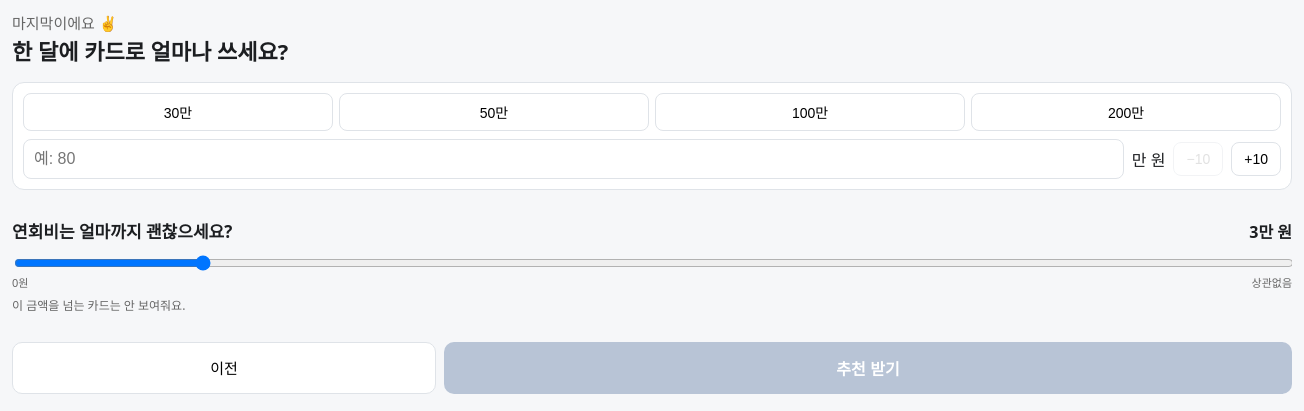
Test: 연회비 슬라이더: 20만 원까지는 실제 값, 그 다음 한 칸이 상관없음
Check: the text "3만 원" is shown, box [1249,219,1292,243]
Set the slider labelled "연회비는 얼마까지 괜찮으세요?" to "200000" at (1224, 263), box [14,255,1292,271]
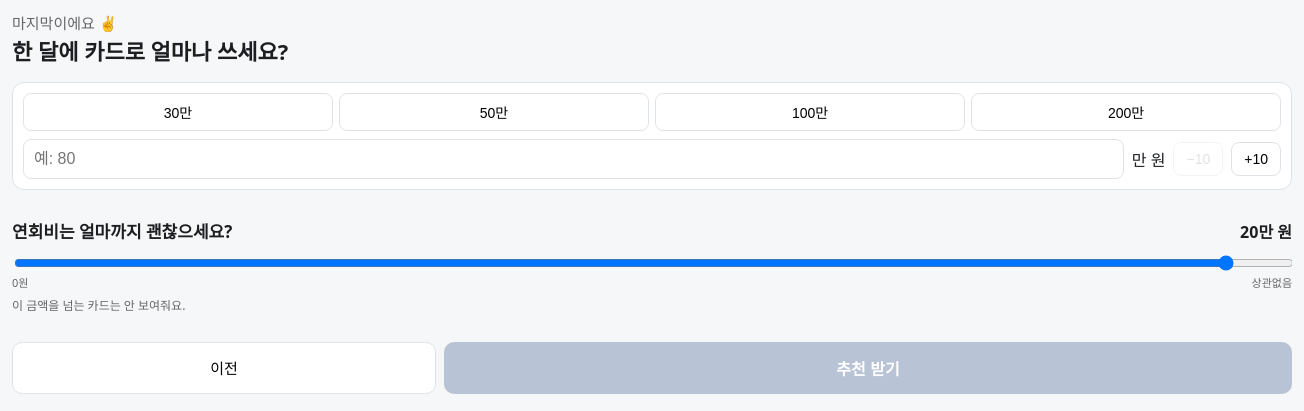
Check: the text "20만 원" is shown, box [1240,219,1292,243]
Set the slider labelled "연회비는 얼마까지 괜찮으세요?" to "210000" at (1284, 263), box [14,255,1292,271]
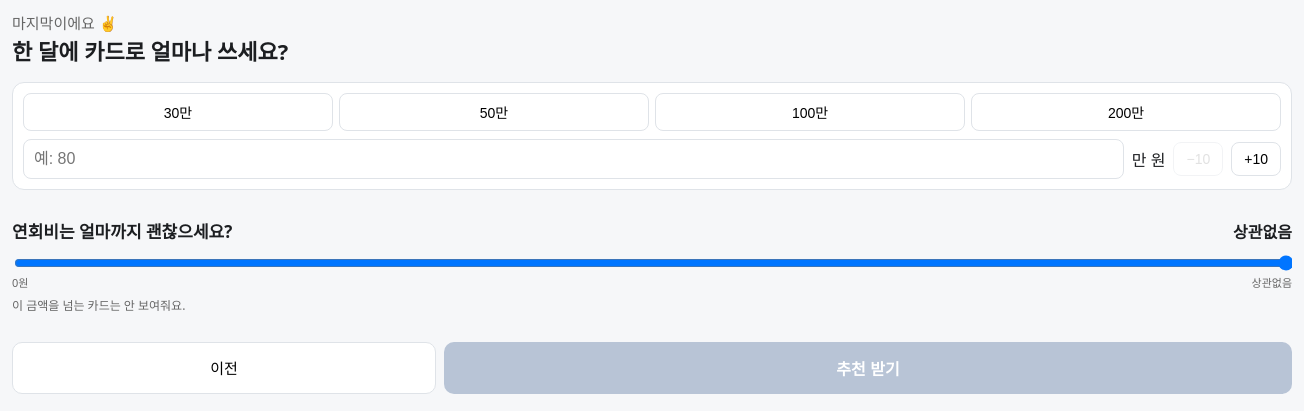
Check: the text "상관없음" in the row of "연회비는 얼마까지 괜찮으세요?" is shown, box [1233,221,1292,243]
